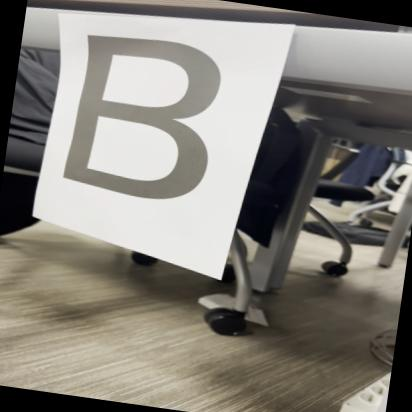seat: (46, 15, 234, 224)
